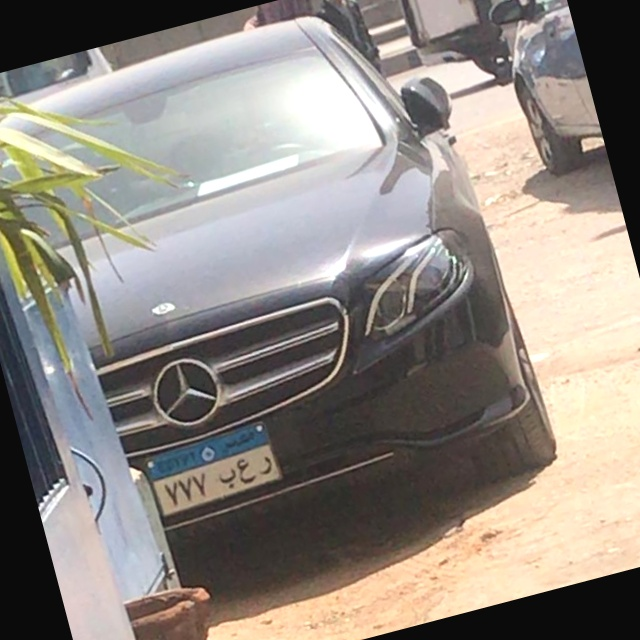License Plate: (130, 414, 288, 521)
